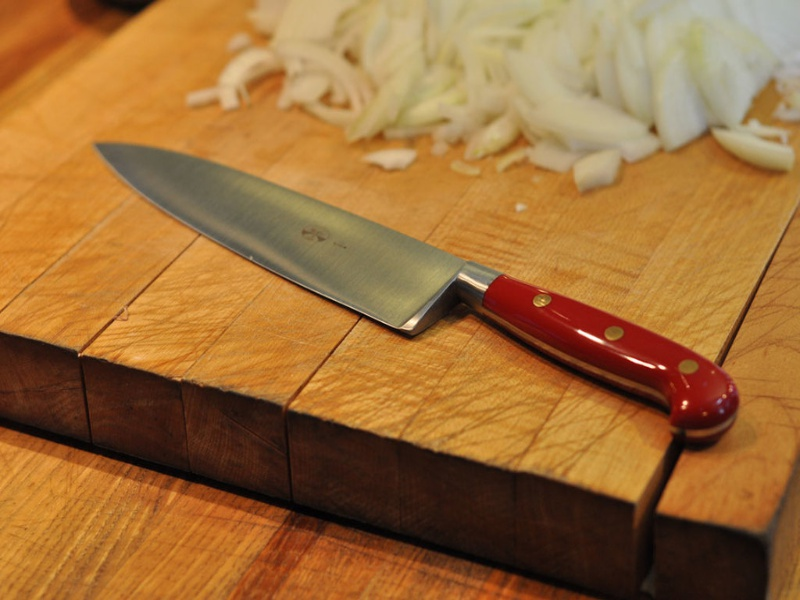knife: (88, 135, 745, 447)
